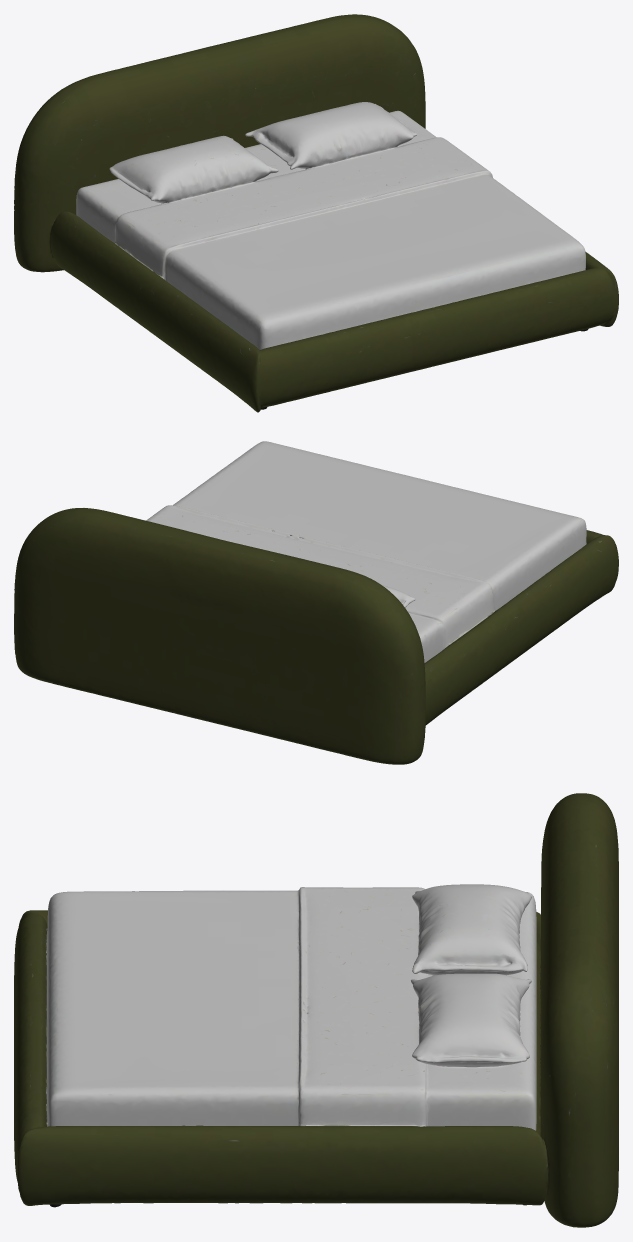
File: loveseat.glb
3 views of the same model, one above another, from view 1: azimuth 30°, elevation 25°; view 2: azimuth 150°, elevation 25°; view 3: azimuth 270°, elevation 25° (orthographic). The views are drawn at different scales.
Parts seen in each view (by area): view 1: world; view 2: world; view 3: world.
Part boxes in pixels (left/top/right/bottom): world: left=14, top=14, right=618, bottom=412; world: left=14, top=441, right=618, bottom=764; world: left=14, top=793, right=618, bottom=1227.
Bounding box in the file's own units: 1 × 0.4093 × 1.
Materials: 1 (1 with a texture image).
